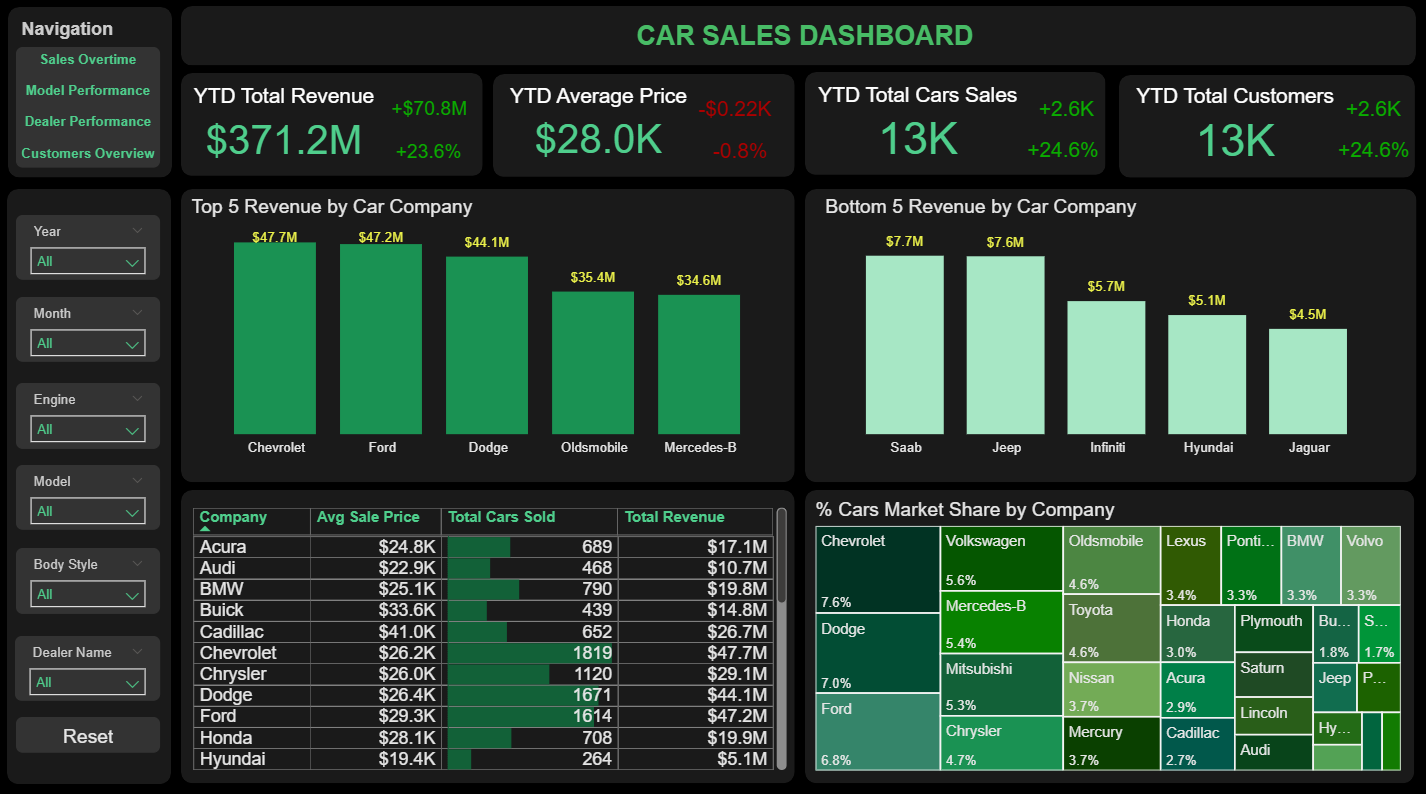

Layout of this report page (visuals, bound fields, positions):
{"tool":"powerbi","page":{"name":"Brand Performance","canvas":[1280,720],"ordinal":2},"visuals":[{"type":"shape","box":[162.4,445.5,549.5,262.6],"z":0},{"type":"shape","box":[6.8,12.6,146.9,152.7],"z":1000},{"type":"shape","box":[162.4,11.7,1105.9,53.5],"z":2000},{"type":"shape","box":[5.8,175.1,146.9,533],"z":3000},{"type":"shape","box":[1002,73,265,92],"z":4000},{"type":"shape","box":[720.7,71,269.4,92.4],"z":5000},{"type":"shape","box":[162.4,175.1,549.5,262.6],"z":6000},{"type":"slicer","fields":{"Values":["DateTable.Year"]},"box":[14.6,198.4,129.4,58.4],"z":7000},{"type":"tableEx","fields":{"Values":["Car Model.Company","Measrure.Average Sale Price","Measrure.Total Cars Sold","Measrure.Total Revenue"]},"box":[166.4,452.7,542.7,248.2],"z":8000},{"type":"slicer","fields":{"Values":["Car Model.Engine"]},"box":[14.6,349.2,129.4,59.3],"z":9000},{"type":"slicer","fields":{"Values":["Car Model.Model"]},"box":[14.6,423.1,129.4,58.4],"z":10000},{"type":"slicer","fields":{"Values":["Dealer.Dealer_Name"]},"box":[13.6,575.8,130.3,58.4],"z":11000},{"type":"slicer","fields":{"Values":["Car Model.Body Style"]},"box":[14.6,497,129.4,59.3],"z":12000},{"type":"textbox","box":[451.3,19.5,538.8,39.9],"z":13000},{"type":"textbox","box":[14.5,19.1,138.2,29.1],"z":14000},{"type":"actionButton","box":[14.6,648.8,129.4,32.1],"z":15000},{"type":"slicer","fields":{"Values":["DateTable.Month Name"]},"box":[14.6,272.3,129.4,58.4],"z":16000},{"type":"shape","box":[720.7,175.1,547.6,262.6],"z":17000},{"type":"columnChart","title":"Top 5 Revenue by Car Company","fields":{"Y":["Car Sales Datasets.Total Revenue"],"Category":["Car Model.Company"]},"box":[166.4,180.9,541.8,257.3],"z":18000},{"type":"columnChart","title":"Bottom 5 Revenue by Car Company","fields":{"Y":["Car Sales Datasets.Total Revenue"],"Category":["Car Model.Company"]},"box":[726.4,180.9,540,257.3],"z":19000},{"type":"pageNavigator","box":[14.6,48.6,129.4,108],"z":20000},{"type":"shape","box":[720.7,445.5,545.7,262.6],"z":21000},{"type":"treemap","title":"% Cars Market Share by Company","fields":{"Values":["Measrure.Cars Market Share %"],"Group":["Car Model.Company"]},"box":[725.5,452.7,534.5,248.2],"z":22000},{"type":"shape","box":[163.6,71.8,264.5,92.7],"z":23000},{"type":"card","title":"YTD Total Revenue","fields":{"Values":["Measrure.YTD Revenue"]},"box":[164.5,87.3,138.2,78.2],"z":24000},{"type":"card","fields":{"Values":["Sales.Revenue Diff and Icon"]},"box":[302.7,72.7,68.2,46.4],"z":25000},{"type":"card","fields":{"Values":["Measrure.YOY Revenue Growth and Icon"]},"box":[368.2,72.7,60.9,46.4],"z":26000},{"type":"shape","box":[443.3,71.6,265.1,93.1],"z":27000},{"type":"card","fields":{"Values":["Measrure.Avg Sale Price Diff and Icon"]},"box":[589.1,72.7,64.5,46.4],"z":28000},{"type":"card","fields":{"Values":["Measrure.YOY Avg Price Growth and Icon"]},"box":[653.6,72.7,50.9,46.4],"z":29000},{"type":"card","title":" YTD Average Price","fields":{"Values":["Measrure.YTD Avg Sale Price"]},"box":[444.5,87.3,144.5,78.2],"z":30000},{"type":"card","title":"YTD Total Cars Sales","fields":{"Values":["Measrure.YTD Total Cars Sold"]},"box":[726.4,87.3,153.6,78.2],"z":31000},{"type":"card","fields":{"Values":["Measrure.Total Cars Sold Diff and Icon"]},"box":[880,72.7,49.1,46.4],"z":32000},{"type":"card","fields":{"Values":["Measure.YOY Total Cars Sold Growth and Icon"]},"box":[929.1,72.7,61.8,46.4],"z":33000},{"type":"card","title":"YTD Total Customers","fields":{"Values":["Measure.YTD Total Customers"]},"box":[1002.7,87.3,153.6,78.2],"z":34000},{"type":"card","fields":{"Values":["Measure.Total Customers Diff and Icon"]},"box":[1156.4,72.7,51.8,46.4],"z":35000},{"type":"card","fields":{"Values":["Measure.YOY Total Customers Growth and Icon"]},"box":[1205.5,72.7,61.8,46.4],"z":36000},{"type":"lineChart","fields":{"Category":["DateTable.Month Number"],"Y":["Measure.Total Revenue"]},"box":[296.4,86,163.9,78.8],"z":40000},{"type":"lineChart","fields":{"Category":["DateTable.Month Number"],"Y":["Measure.Average Sale Price"]},"box":[580.3,99.4,160.3,65.4],"z":40001},{"type":"lineChart","fields":{"Category":["DateTable.Month Number"],"Y":["Measure.Total Cars Sold"]},"box":[873.1,96.7,137,68.1],"z":40002},{"type":"lineChart","fields":{"Category":["DateTable.Month Number"],"Y":["Customer.Total Customers"]},"box":[1151.6,96.7,128.1,68.1],"z":40003}]}

Visuals, with their boxes in screenshot pixels (x1, y1, x2, y2), scaled from the page's 1280x720 canvas onto the 1426x794 screenshot:
shape: (x1=181, y1=491, x2=793, y2=781)
shape: (x1=8, y1=14, x2=171, y2=182)
shape: (x1=181, y1=13, x2=1413, y2=72)
shape: (x1=6, y1=193, x2=170, y2=781)
shape: (x1=1116, y1=81, x2=1412, y2=182)
shape: (x1=803, y1=78, x2=1103, y2=180)
shape: (x1=181, y1=193, x2=793, y2=483)
slicer - DateTable.Year: (x1=16, y1=219, x2=160, y2=283)
tableEx - Car Model.Company x Measrure.Average Sale Price: (x1=185, y1=499, x2=790, y2=773)
slicer - Car Model.Engine: (x1=16, y1=385, x2=160, y2=450)
slicer - Car Model.Model: (x1=16, y1=467, x2=160, y2=531)
slicer - Dealer.Dealer_Name: (x1=15, y1=635, x2=160, y2=699)
slicer - Car Model.Body Style: (x1=16, y1=548, x2=160, y2=613)
textbox: (x1=503, y1=22, x2=1103, y2=66)
textbox: (x1=16, y1=21, x2=170, y2=53)
actionButton: (x1=16, y1=715, x2=160, y2=751)
slicer - DateTable.Month Name: (x1=16, y1=300, x2=160, y2=365)
shape: (x1=803, y1=193, x2=1413, y2=483)
"Top 5 Revenue by Car Company" columnChart: (x1=185, y1=199, x2=789, y2=483)
"Bottom 5 Revenue by Car Company" columnChart: (x1=809, y1=199, x2=1411, y2=483)
pageNavigator: (x1=16, y1=54, x2=160, y2=173)
shape: (x1=803, y1=491, x2=1411, y2=781)
"% Cars Market Share by Company" treemap: (x1=808, y1=499, x2=1404, y2=773)
shape: (x1=182, y1=79, x2=477, y2=181)
"YTD Total Revenue" card: (x1=183, y1=96, x2=337, y2=183)
card - Sales.Revenue Diff and Icon: (x1=337, y1=80, x2=413, y2=131)
card - Measrure.YOY Revenue Growth and Icon: (x1=410, y1=80, x2=478, y2=131)
shape: (x1=494, y1=79, x2=789, y2=182)
card - Measrure.Avg Sale Price Diff and Icon: (x1=656, y1=80, x2=728, y2=131)
card - Measrure.YOY Avg Price Growth and Icon: (x1=728, y1=80, x2=785, y2=131)
" YTD Average Price" card: (x1=495, y1=96, x2=656, y2=183)
"YTD Total Cars Sales" card: (x1=809, y1=96, x2=980, y2=183)
card - Measrure.Total Cars Sold Diff and Icon: (x1=980, y1=80, x2=1035, y2=131)
card - Measure.YOY Total Cars Sold Growth and Icon: (x1=1035, y1=80, x2=1104, y2=131)
"YTD Total Customers" card: (x1=1117, y1=96, x2=1288, y2=183)
card - Measure.Total Customers Diff and Icon: (x1=1288, y1=80, x2=1346, y2=131)
card - Measure.YOY Total Customers Growth and Icon: (x1=1343, y1=80, x2=1412, y2=131)
lineChart - DateTable.Month Number x Measure.Total Revenue: (x1=330, y1=95, x2=513, y2=182)
lineChart - DateTable.Month Number x Measure.Average Sale Price: (x1=646, y1=110, x2=825, y2=182)
lineChart - DateTable.Month Number x Measure.Total Cars Sold: (x1=973, y1=107, x2=1125, y2=182)
lineChart - DateTable.Month Number x Customer.Total Customers: (x1=1283, y1=107, x2=1425, y2=182)
